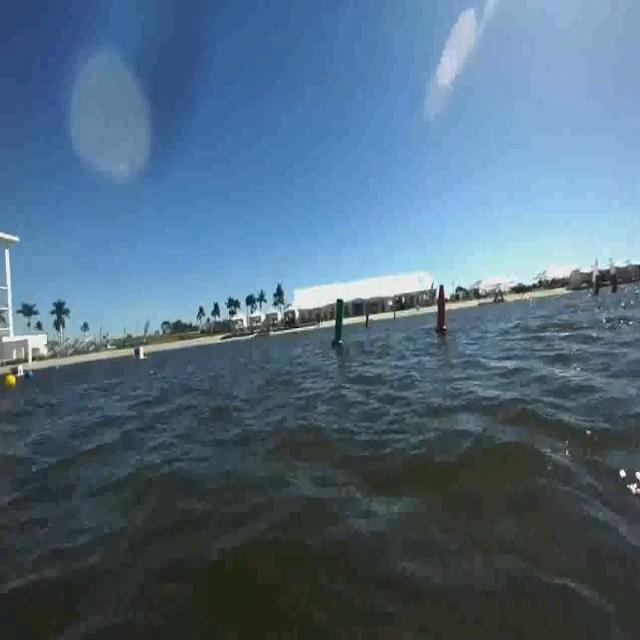green-column-buoy: (333, 300, 349, 352)
red-column-buoy: (435, 284, 451, 336)
yellow-duck: (5, 373, 16, 390)
